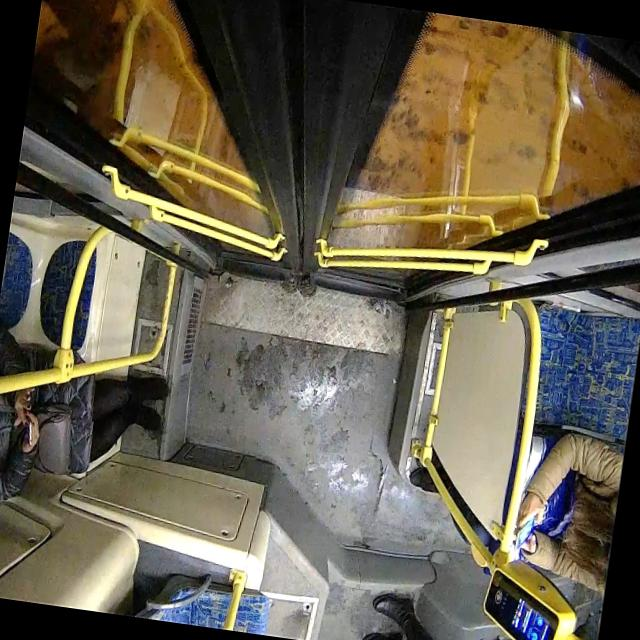bus-door: (24, 0, 640, 299)
